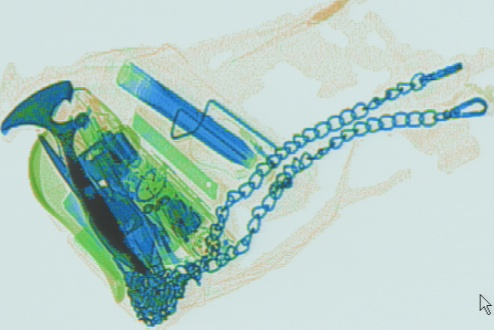knife: (128, 104, 224, 206)
